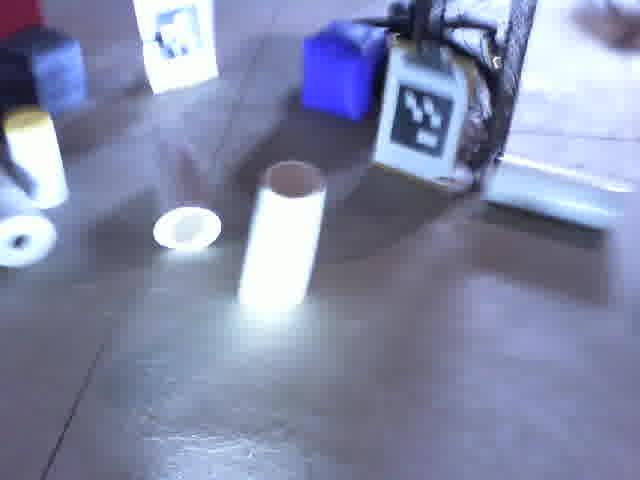coral: (236, 159, 327, 319), (145, 143, 222, 253)
